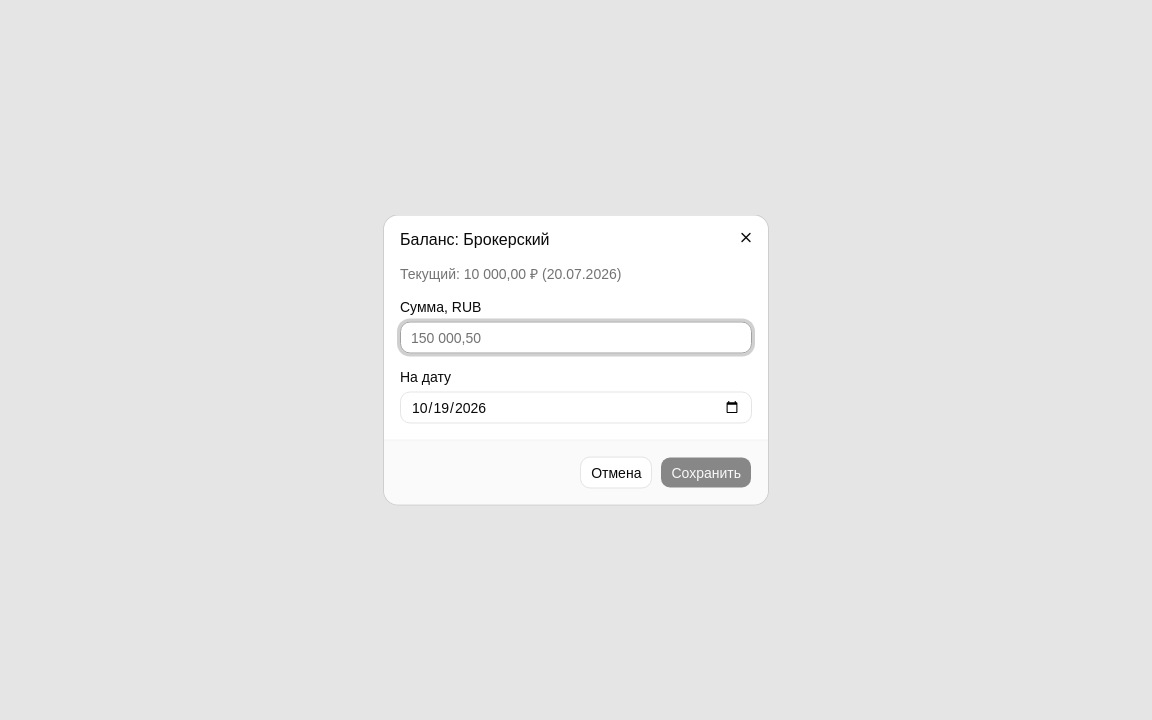
BalanceDialog: a refusal that came back anyway › says it in Russian and does not repeat the server's own words
Type "1000" into the field labelled "Сумма, RUB".
click(576, 338); type("1000")  # box [400,322,752,354]
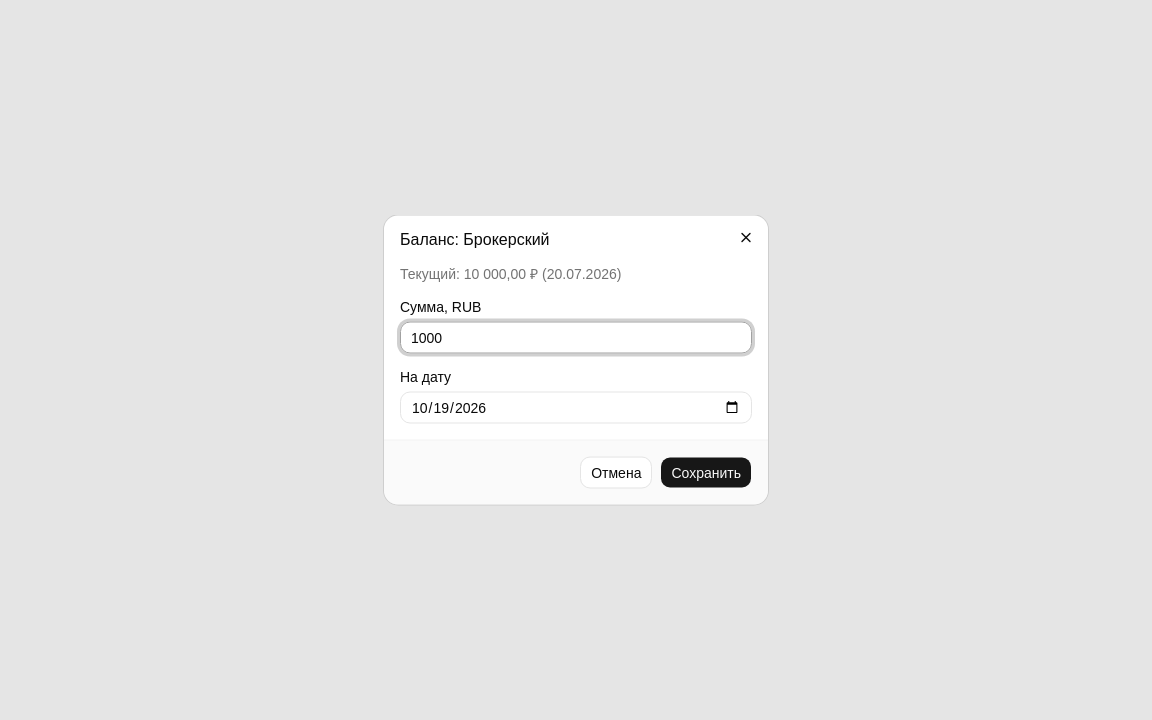
Click the button "Сохранить".
click(706, 472)  # box [660,456,752,488]
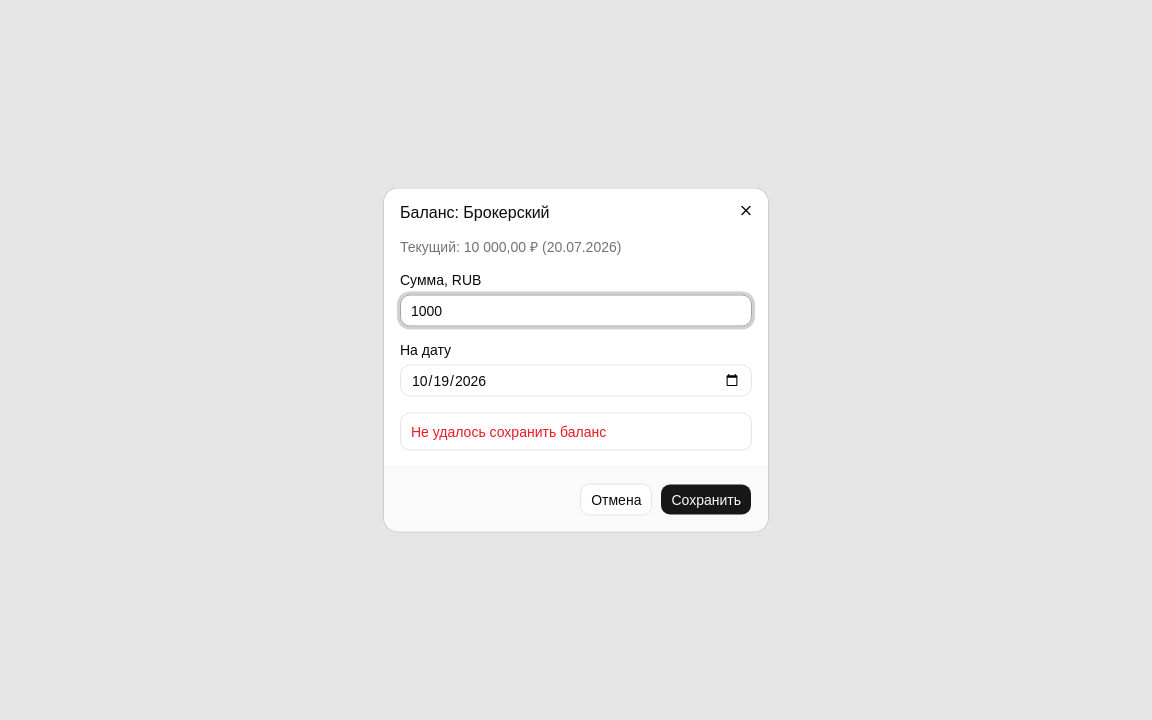
Check: the text "Не удалось сохранить баланс" is shown, box [411,424,606,440]
